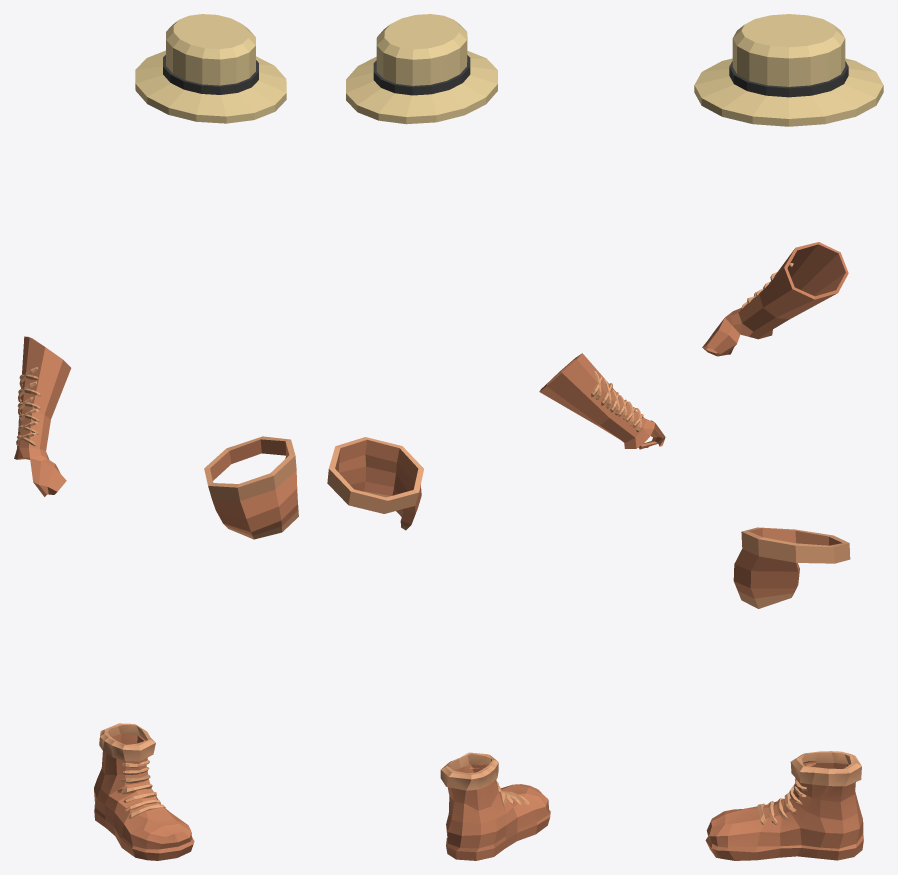
File: Armor.fbx
3 renders of one model, left to right at view 1: azimuth 30°, elevation 25°; view 2: azimuth 150°, elevation 25°; view 3: azimuth 270°, elevation 25°, orthographic. The views are drawn at different scales.
Parts seen in each view (by area): view 1: Head, Boots, Leg, Gloves; view 2: Head, Boots, Leg, Gloves; view 3: Head, Boots, Gloves, Leg.
Boxes of the visible parts, x1,y1,x2,y2 form: Head: (135,14,286,123); Boots: (94,723,194,860); Leg: (204,436,298,539); Gloves: (14,336,71,496); Head: (346,14,497,124); Boots: (440,752,550,860); Leg: (327,437,423,530); Gloves: (539,353,665,449); Head: (694,14,883,126); Boots: (705,751,863,860); Gloves: (702,242,848,356); Leg: (733,527,850,608).
Bounding box in the file's own units: 191 × 485 × 97.05.
